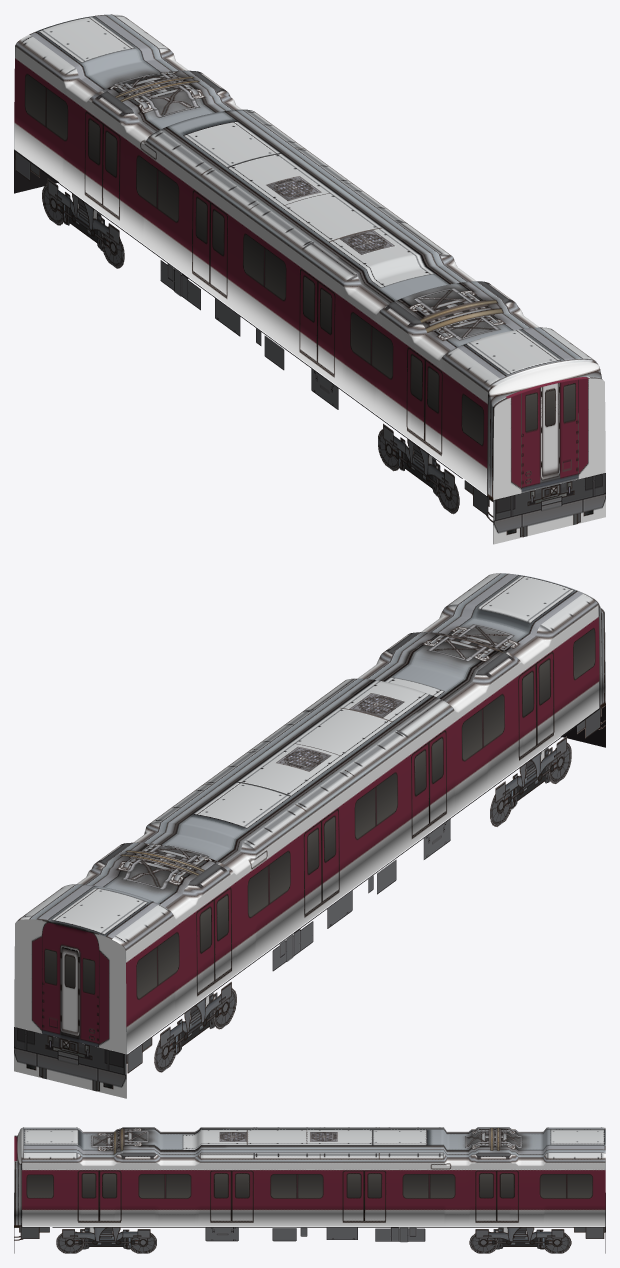
File: car2.glb
3 views of the same model, one above another, from view 1: azimuth 30°, elevation 25°; view 2: azimuth 150°, elevation 25°; view 3: azimuth 270°, elevation 25° (orthographic). The views are drawn at different scales.
Visible parts, largest first — view 1: kintetsu-8800-car2; view 2: kintetsu-8800-car2; view 3: kintetsu-8800-car2.
Boxes of the visible parts, x1,y1,x2,y2 form: kintetsu-8800-car2: [14, 14, 605, 544]; kintetsu-8800-car2: [14, 573, 605, 1098]; kintetsu-8800-car2: [14, 1127, 605, 1253].
Size of the model in its own units: 2.8 by 3.82 by 20.73.
8 materials, 7 textured.
